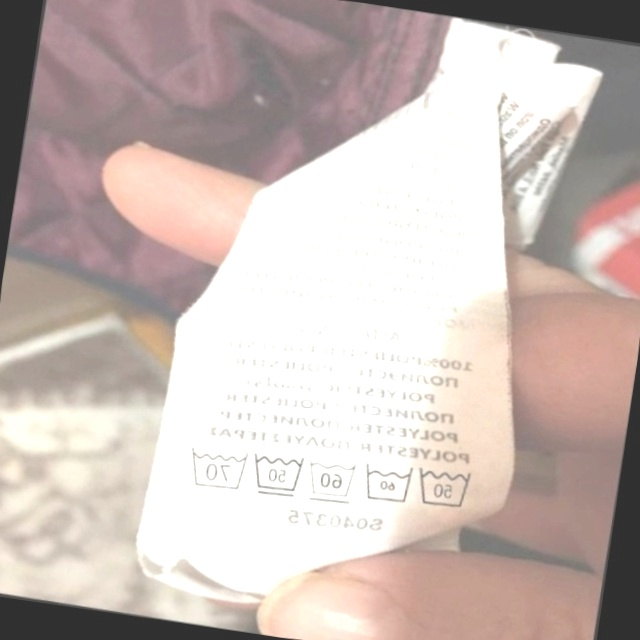50C: (408, 455, 481, 518), (243, 444, 310, 505)
60C: (298, 450, 361, 509), (354, 454, 418, 512)
70C: (178, 438, 252, 497)
